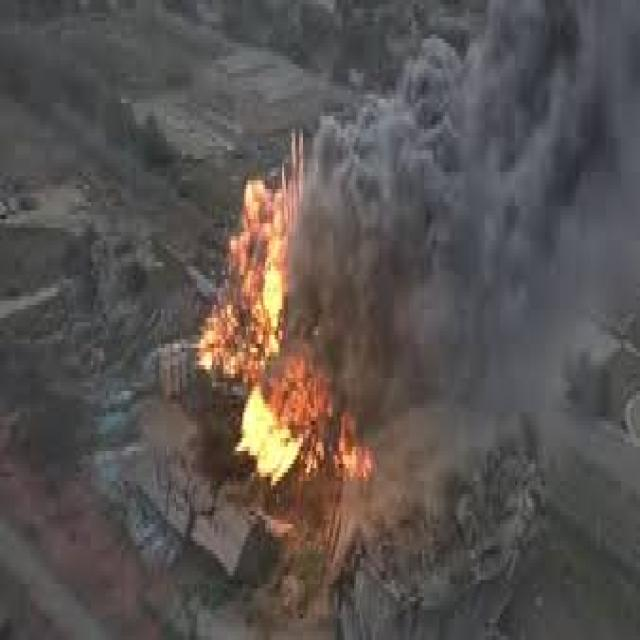explosion: (147, 105, 549, 640)
